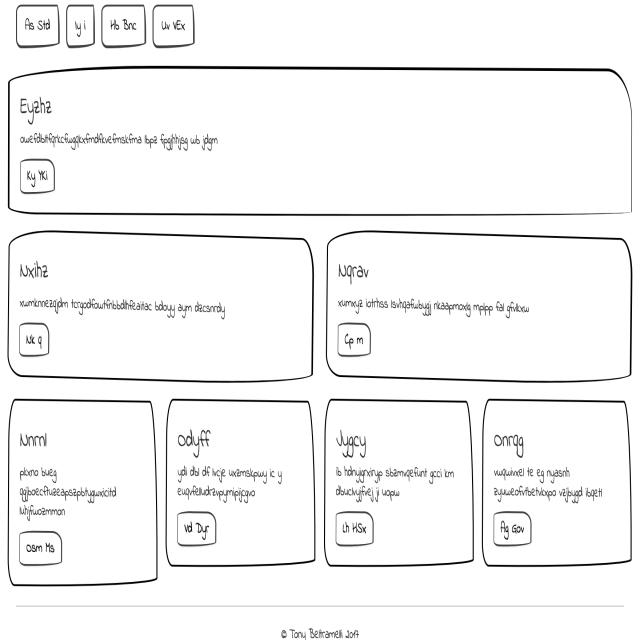Button: (20, 529, 68, 572), (17, 155, 60, 198), (336, 319, 380, 360), (17, 314, 53, 358), (175, 509, 218, 545), (491, 514, 532, 545), (340, 518, 381, 544)
Card: (9, 75, 638, 220), (9, 235, 316, 387), (329, 238, 634, 378), (11, 402, 158, 588), (481, 402, 631, 568), (330, 398, 471, 568), (168, 410, 313, 560)
Footer: (3, 591, 640, 640)
Heading 6: (13, 82, 74, 126), (9, 249, 64, 286), (335, 254, 392, 288), (333, 415, 380, 456), (482, 422, 540, 454), (16, 419, 64, 453), (175, 419, 220, 453)
Navigation Bar: (6, 4, 199, 54)
Paragraph: (169, 450, 296, 506), (332, 453, 460, 506), (14, 460, 130, 518), (17, 285, 242, 314), (9, 130, 239, 154), (329, 294, 549, 319), (485, 468, 620, 504)
